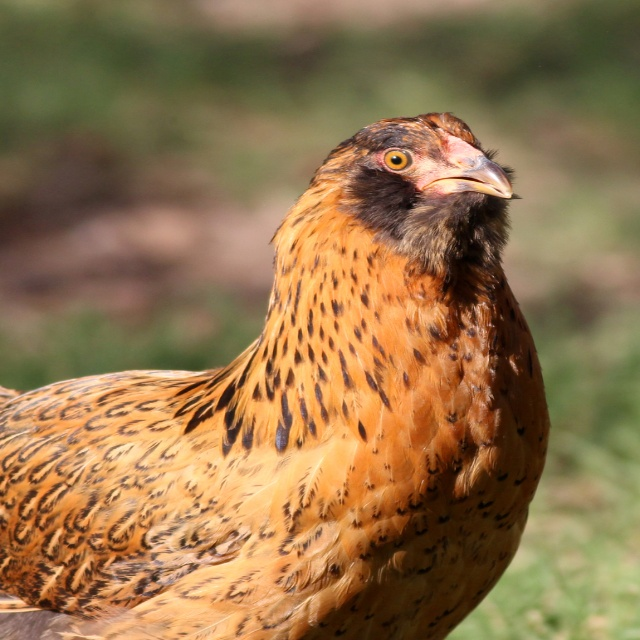Chicken: (0, 112, 553, 640)
